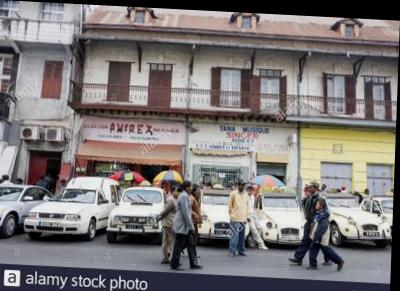License_Plate: (39, 219, 63, 228), (281, 234, 299, 244), (125, 223, 144, 231), (364, 230, 379, 236)
